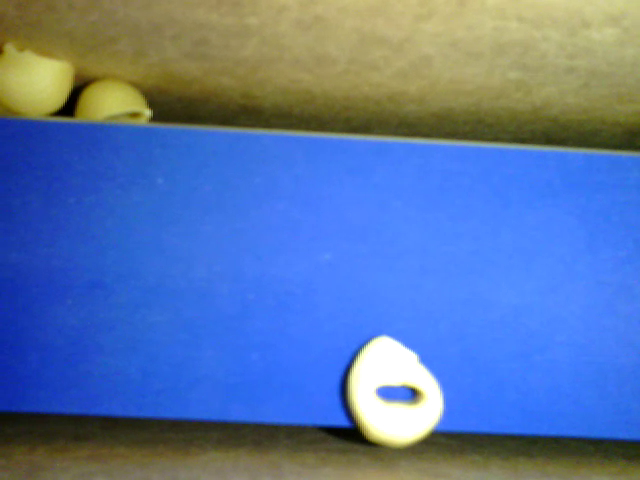shell: (1, 46, 73, 117), (74, 79, 153, 121)
tortellini: (346, 334, 444, 448)
